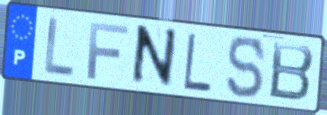B: (266, 40, 316, 104)
F: (86, 21, 131, 82)
L: (42, 14, 77, 80), (181, 30, 213, 95)
N: (128, 23, 180, 91)
S: (226, 34, 268, 100)
